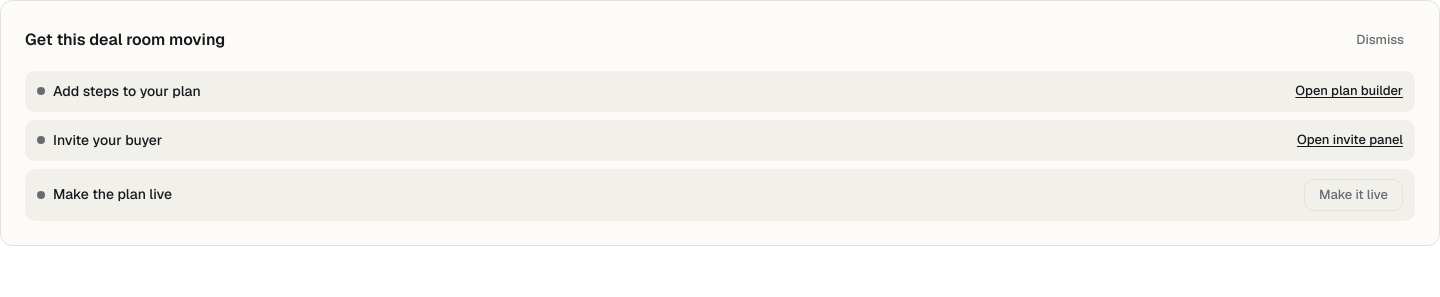
Scenario: ActivationChecklist — dismiss › shows a quiet inline error and keeps the card visible when the action fails
This screenshot has width=1440, height=297.
What coordinates should you click on to do the following:
click the button "Dismiss"
I would click on:
 (1380, 40)
Its box is [1345,25,1415,54].
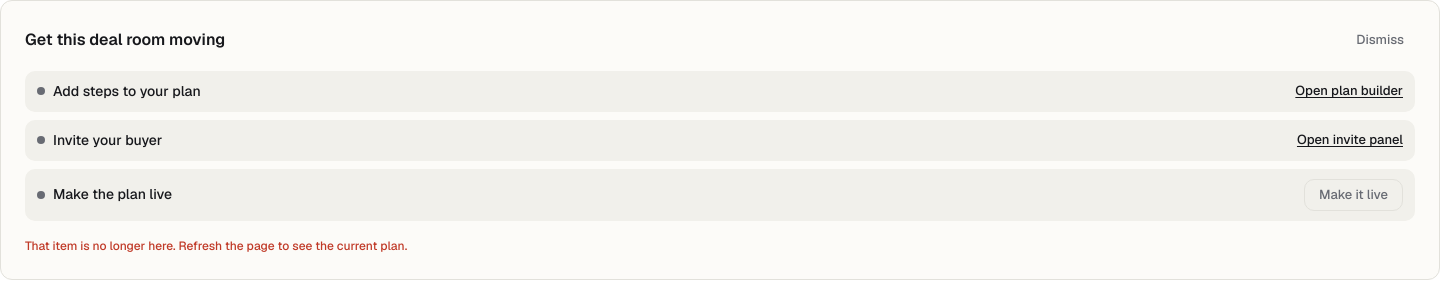
Expected: the message reads "That item is no longer here. Refresh the page to see the current plan.", [25,238,407,254]
